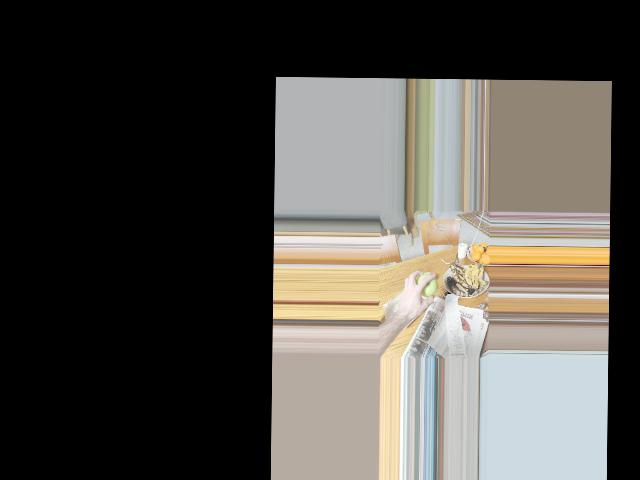apple: (415, 272, 437, 298)
